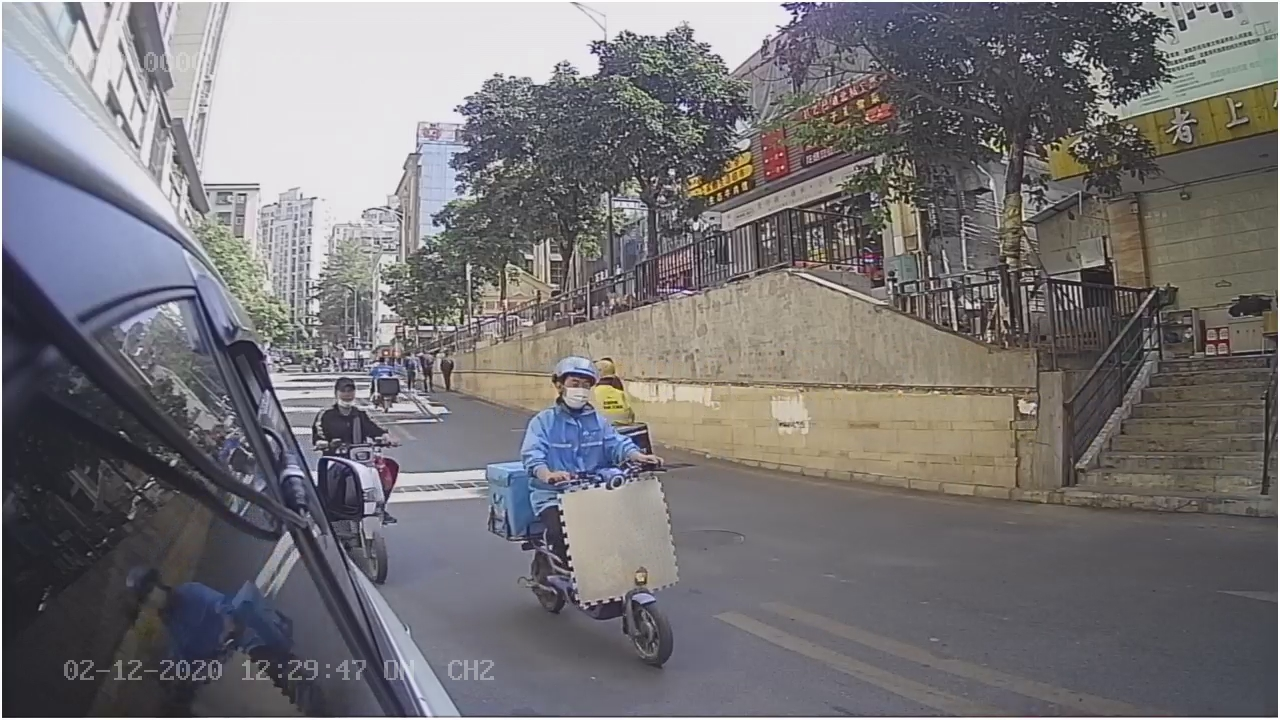person: (518, 348, 643, 480)
